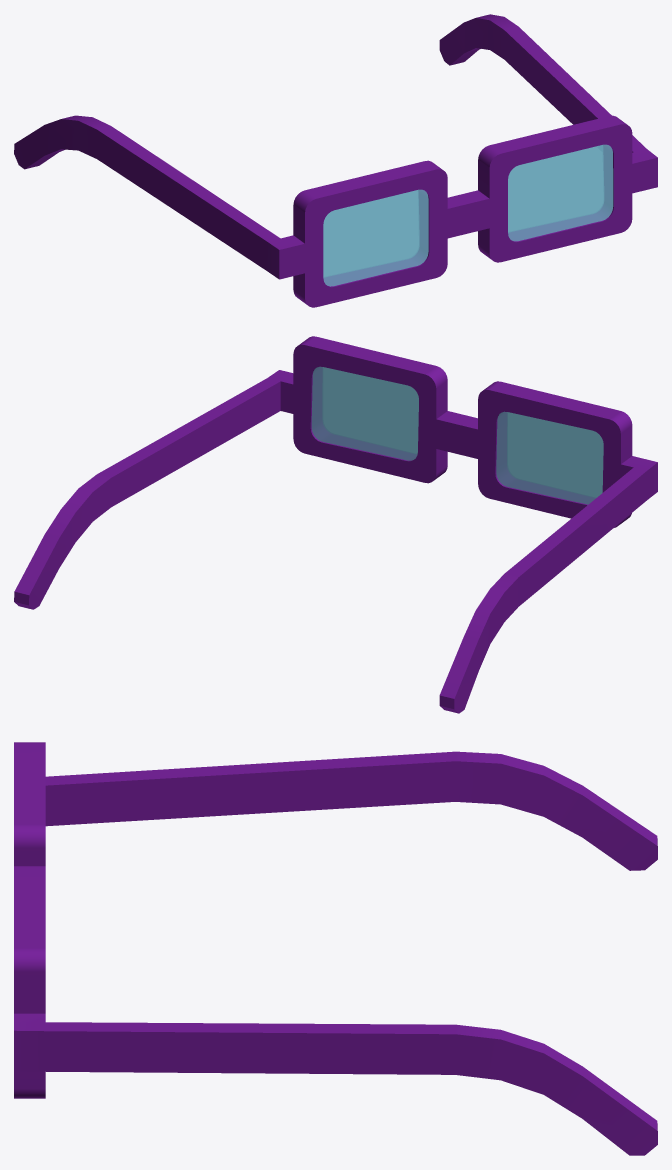
File: Rugrat_B.glb
The picture shows the model from 3 angles, top to bottom: view 1: azimuth 30°, elevation 25°; view 2: azimuth 150°, elevation 25°; view 3: azimuth 270°, elevation 25°; orthographic projection. The views are drawn at different scales.
Parts seen in each view (by area): view 1: Rugrat B; view 2: Rugrat B; view 3: Rugrat B.
Part boxes in pixels (x1,y1,x2,y2): Rugrat B: (14,14,657,307); Rugrat B: (14,336,657,713); Rugrat B: (14,742,657,1155).
Bounding box in the file's own units: 0.8763 × 0.2248 × 0.8081.
2 materials, 2 textured.
